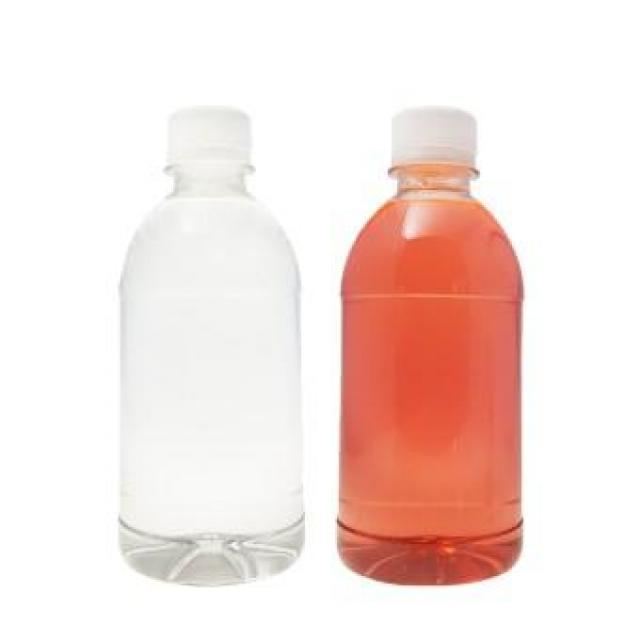bottle: (111, 87, 316, 587), (339, 88, 537, 593)
